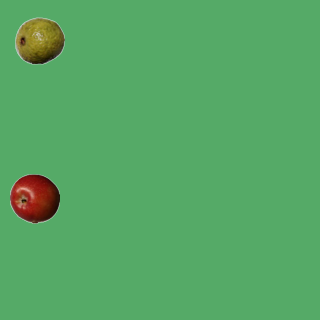Apple Braeburn: (9, 173, 59, 223)
Guava: (14, 15, 64, 65)
